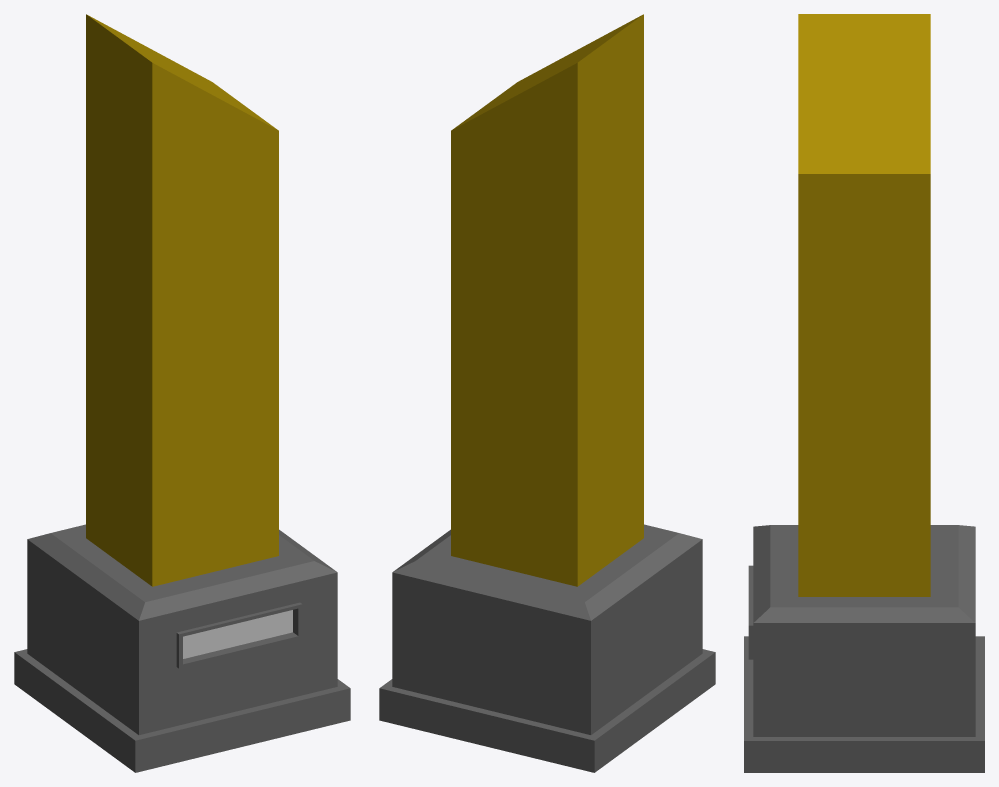
File: TrophyV3.fbx
3 renders of one model, left to right at view 1: azimuth 30°, elevation 25°; view 2: azimuth 150°, elevation 25°; view 3: azimuth 270°, elevation 25°, orthographic.
Parts seen in each view (by area): view 1: TrophyV3; view 2: TrophyV3; view 3: TrophyV3.
Part boxes in pixels (bbox=[...]): TrophyV3: bbox=[14, 14, 350, 772]; TrophyV3: bbox=[379, 14, 715, 772]; TrophyV3: bbox=[744, 14, 984, 772].
Size of the model in its own units: 8.07 by 24.38 by 7.87.
